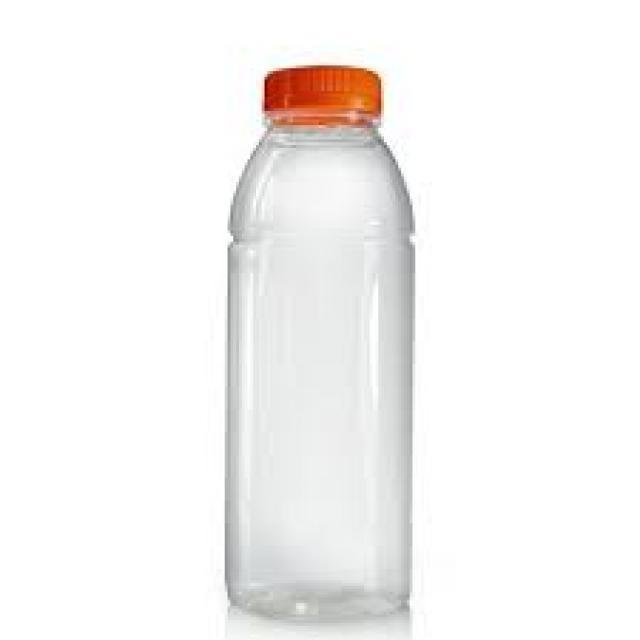Plastic: (226, 63, 419, 623)
